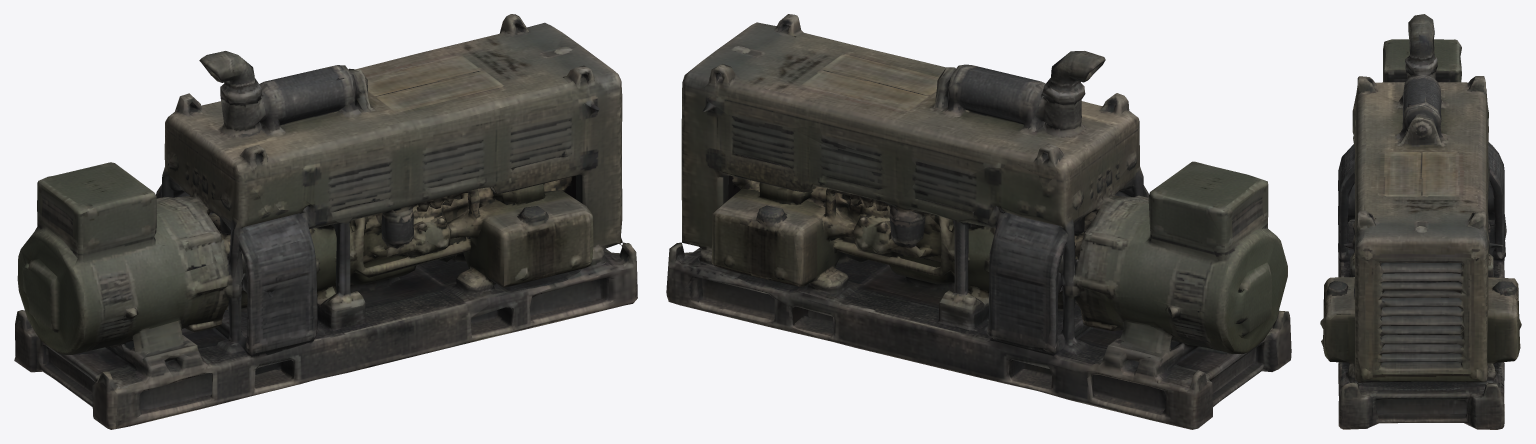
The model's file is candidate.glb.
3 views of the same model, side by side, from view 1: azimuth 30°, elevation 25°; view 2: azimuth 150°, elevation 25°; view 3: azimuth 270°, elevation 25° (orthographic). The views are drawn at different scales.
Parts seen in each view (by area): view 1: BunkerDieselGenerator; view 2: BunkerDieselGenerator; view 3: BunkerDieselGenerator.
Part boxes in pixels (x1,y1,x2,y2): BunkerDieselGenerator: [14, 14, 637, 429]; BunkerDieselGenerator: [666, 14, 1291, 429]; BunkerDieselGenerator: [1320, 14, 1521, 429].
Size of the model in its own units: 3.2 by 1.69 by 1.2.
1 material, 1 textured.
